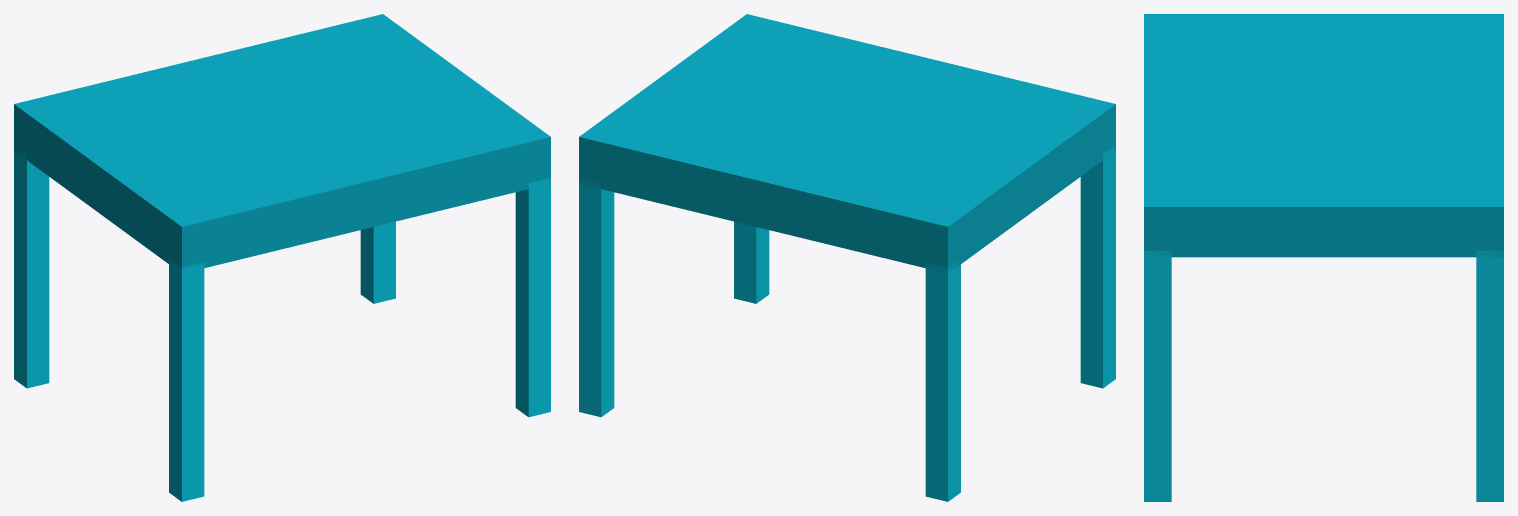
Rendered from Basic Table.glb.
3 views of the same model, side by side, from view 1: azimuth 30°, elevation 25°; view 2: azimuth 150°, elevation 25°; view 3: azimuth 270°, elevation 25° (orthographic). The views are drawn at different scales.
Visible parts, largest first — view 1: Table Top, Table Leg 3, Table Leg 4, Table Leg 1, Table Leg 2; view 2: Table Top, Table Leg 1, Table Leg 2, Table Leg 3, Table Leg 4; view 3: Table Top, Table Leg 4, Table Leg 2.
Boxes of the visible parts, x1,y1,x2,y2 form: Table Top: (14,14,550,271); Table Leg 3: (169,258,204,501); Table Leg 4: (515,178,550,417); Table Leg 1: (14,149,49,388); Table Leg 2: (360,221,395,303); Table Top: (579,14,1115,273); Table Leg 1: (925,260,960,501); Table Leg 2: (579,178,614,417); Table Leg 3: (1080,147,1115,388); Table Leg 4: (734,221,769,303); Table Top: (1144,14,1503,257); Table Leg 4: (1144,251,1171,501); Table Leg 2: (1476,251,1503,501).
Bounding box in the file's own units: 105 × 74.61 × 82.55.
